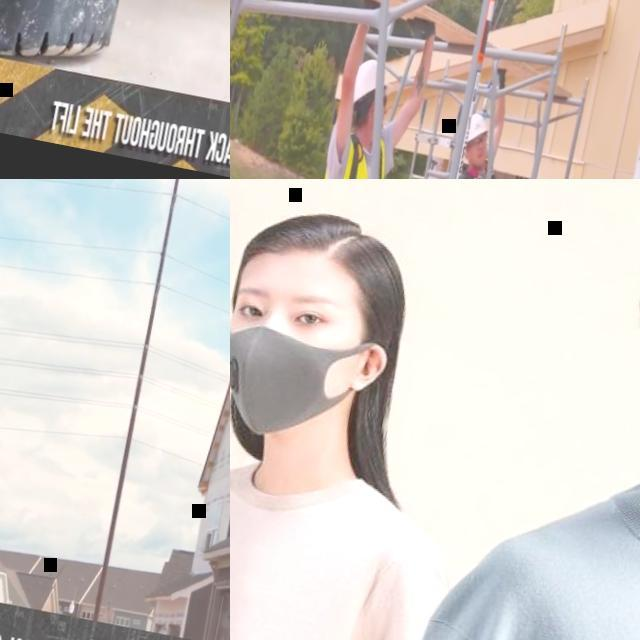helmet: (350, 54, 396, 109), (466, 112, 491, 145)
vest: (297, 129, 402, 179)
